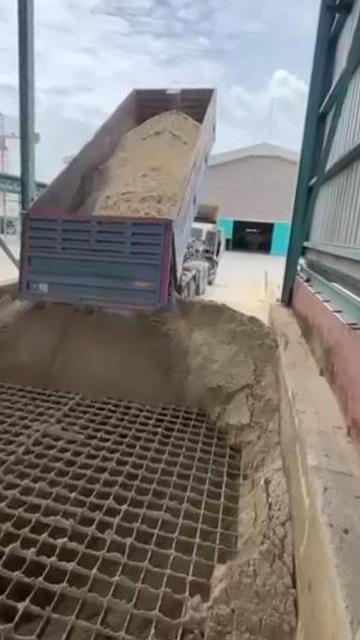sand: (0, 299, 296, 640), (83, 111, 200, 217)
